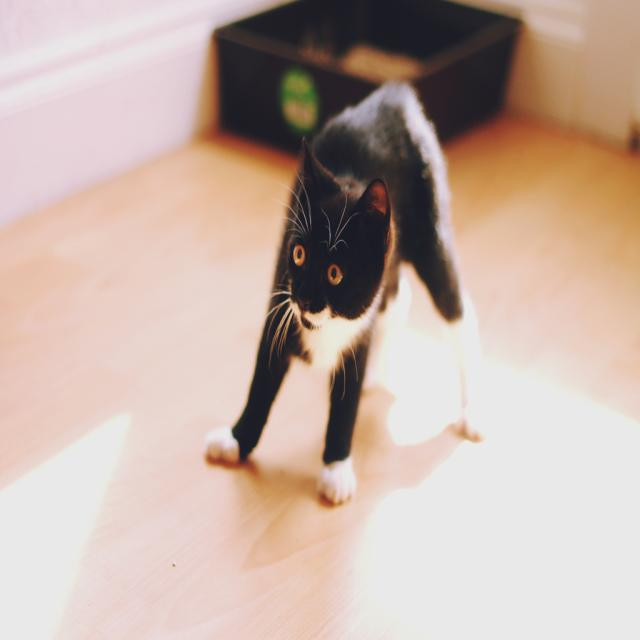Cat: (199, 81, 482, 502)
